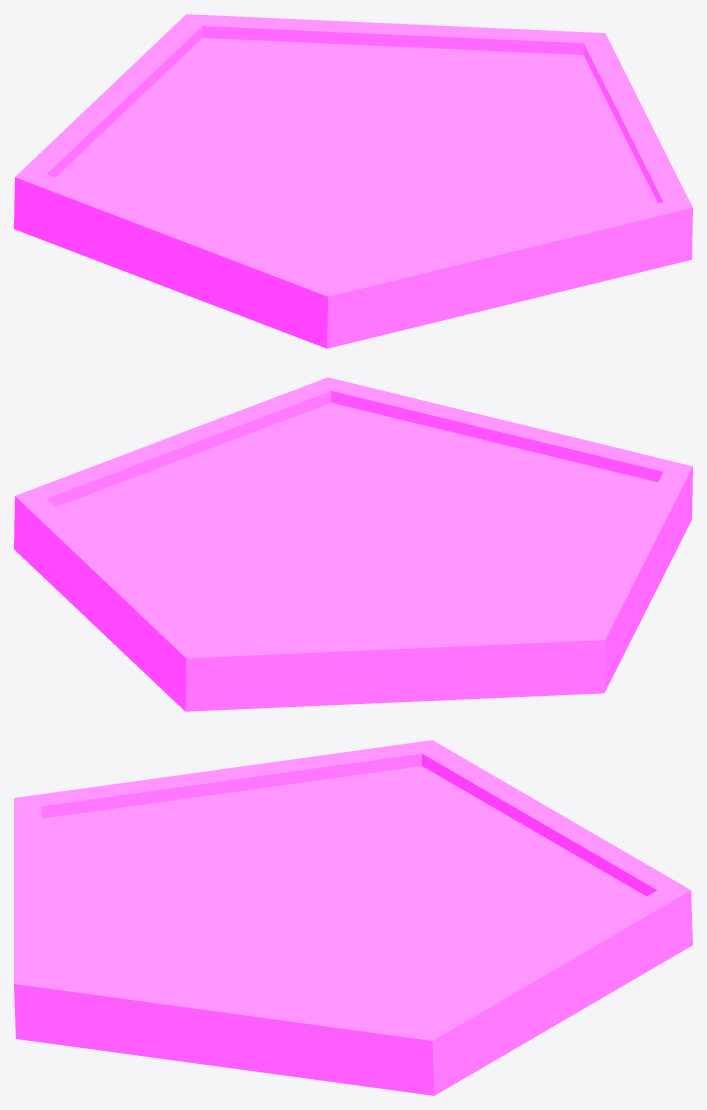
The model's file is SFI0210030.fbx.
3 renders of one model, top to bottom at view 1: azimuth 30°, elevation 25°; view 2: azimuth 150°, elevation 25°; view 3: azimuth 270°, elevation 25°, orthographic. The views are drawn at different scales.
Parts seen in each view (by area): view 1: smSFI0210030; view 2: smSFI0210030; view 3: smSFI0210030.
Part boxes in pixels (x1,y1,x2,y2): smSFI0210030: (14, 14, 692, 348); smSFI0210030: (14, 377, 692, 711); smSFI0210030: (14, 740, 692, 1095).
Size of the model in its own units: 137 by 11.82 by 130.
